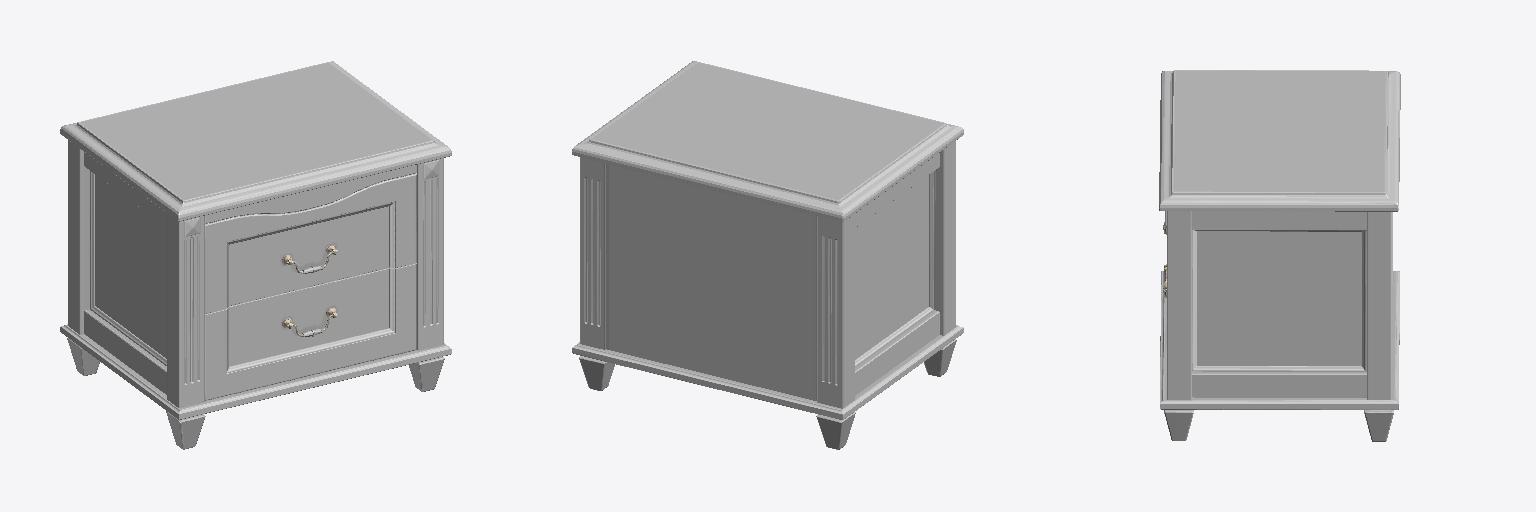
The picture shows the model from 3 angles: view 1: azimuth 30°, elevation 25°; view 2: azimuth 150°, elevation 25°; view 3: azimuth 270°, elevation 25°; orthographic projection.
Visible parts, largest first — view 1: solid_001; view 2: solid_001; view 3: solid_001.
Part boxes in pixels (bbox=[...]): solid_001: bbox=[60, 61, 451, 449]; solid_001: bbox=[572, 61, 963, 449]; solid_001: bbox=[1159, 70, 1400, 441].
Bounding box in the file's own units: 1.46 × 1.27 × 1.12.
1 materials, 1 textured.